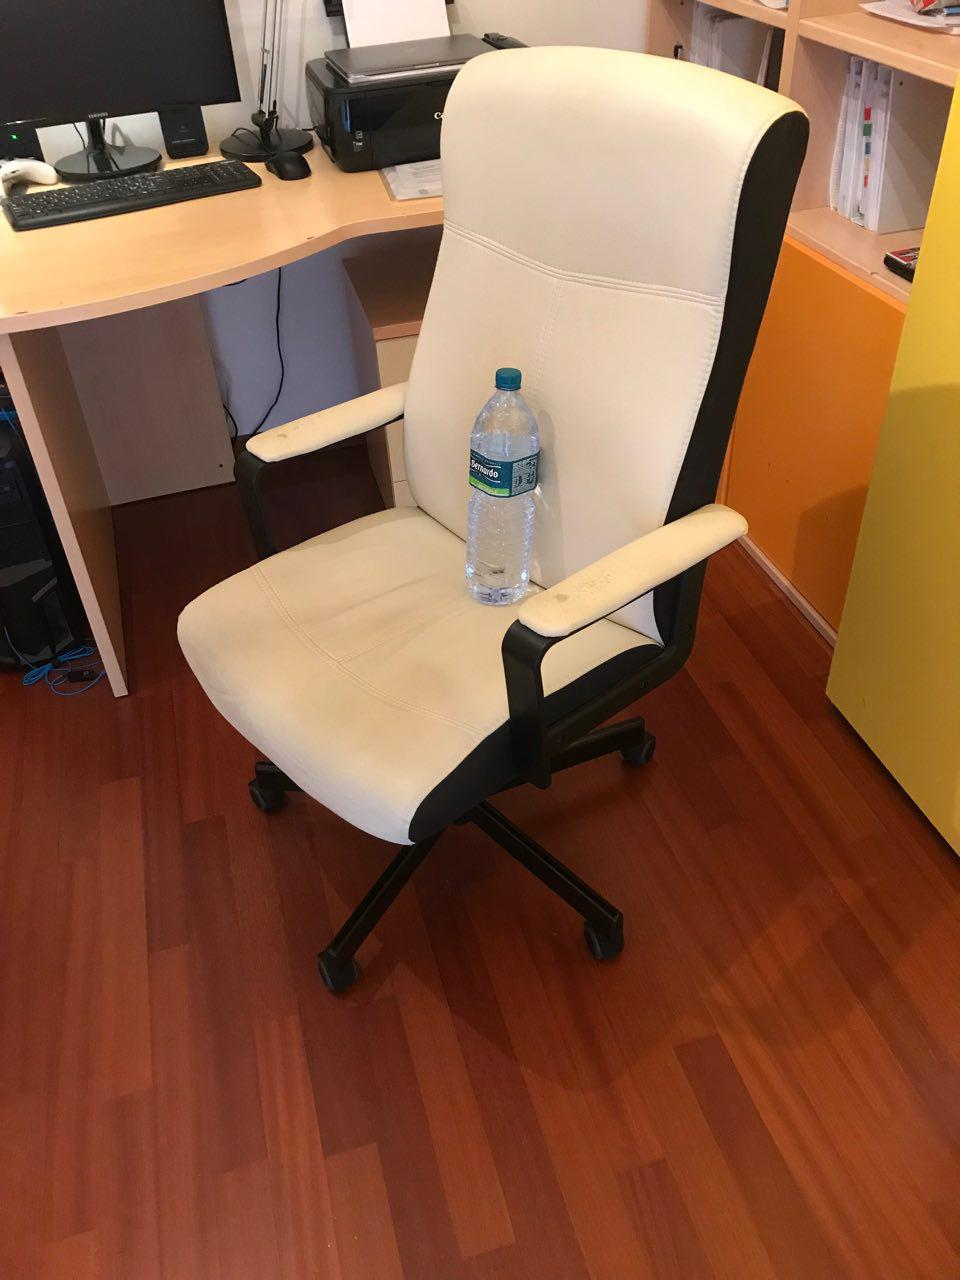san_bernardo: (465, 368, 541, 608)
